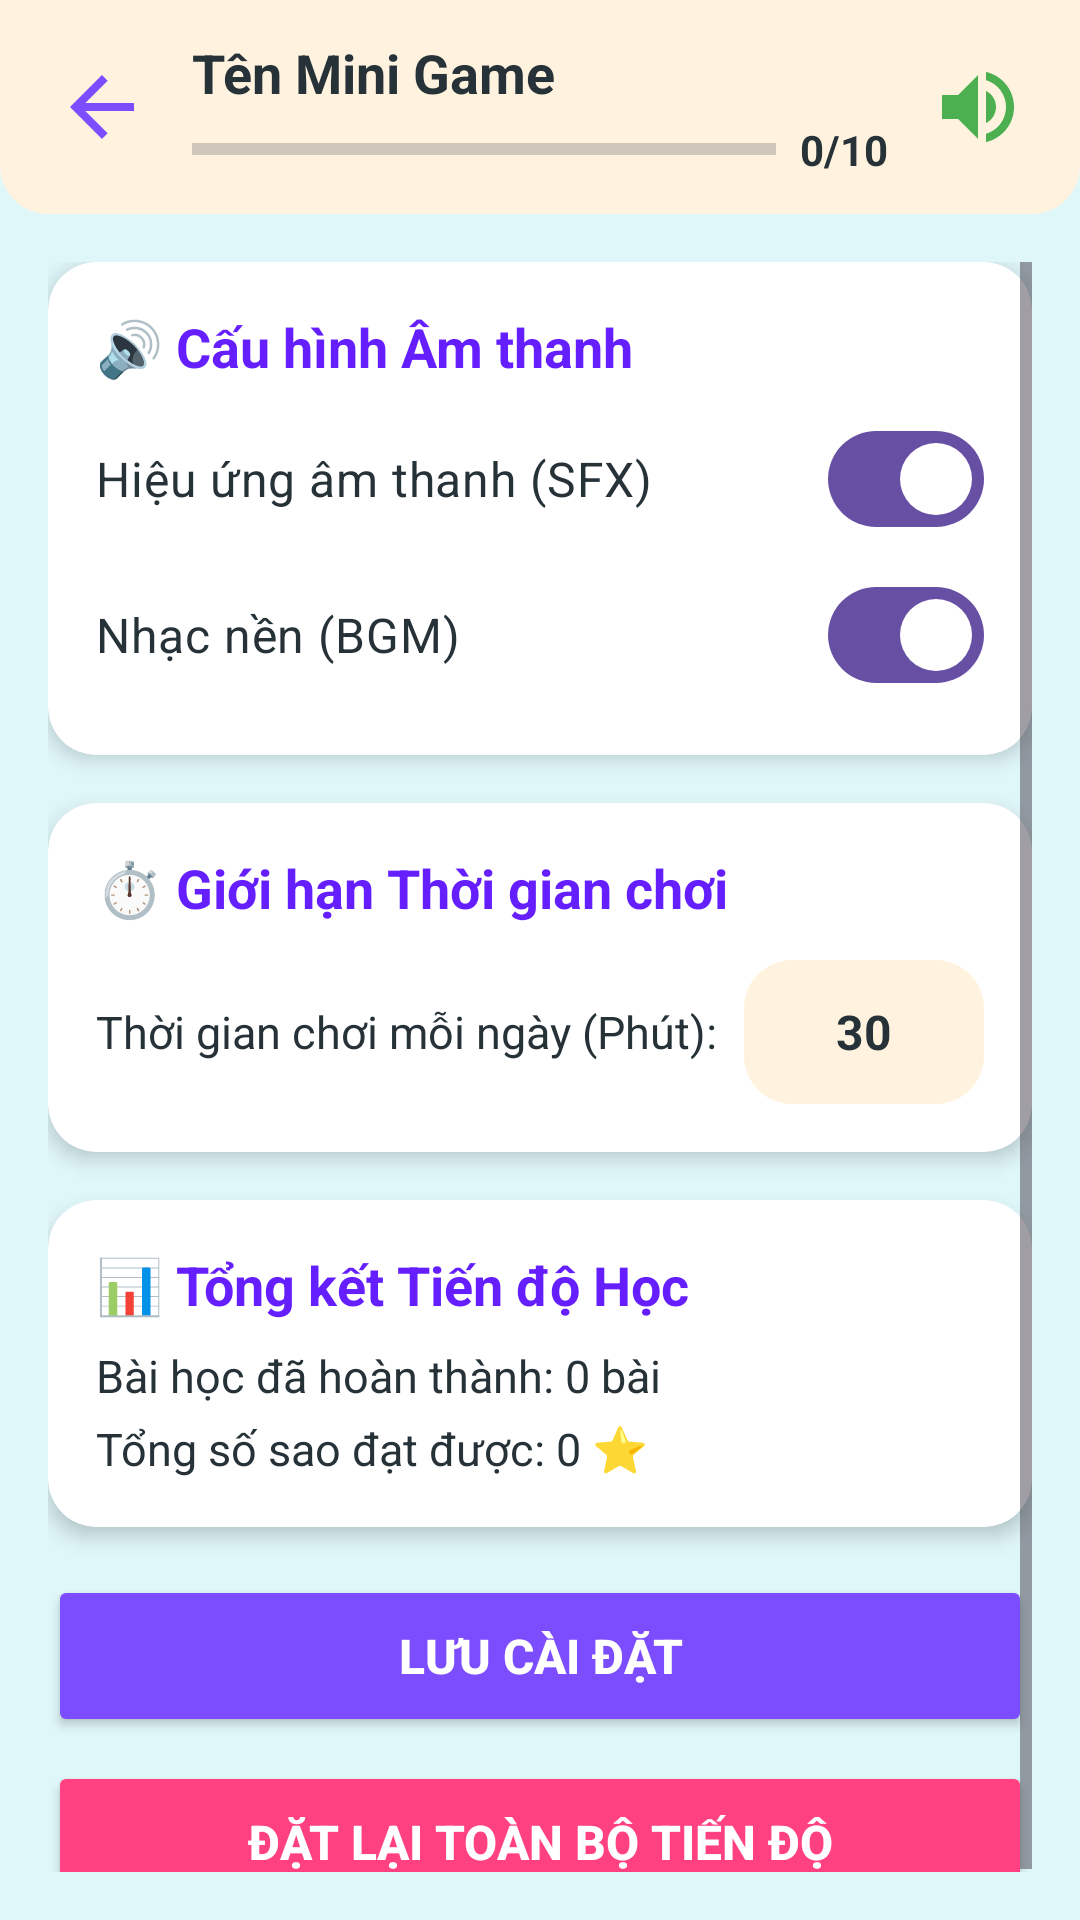

Screen size 1080 × 1920. Icon name, then its center in pixels as (x=x, y=y):
Quay lại: (x=102, y=107)
Âm thanh: (x=978, y=107)
